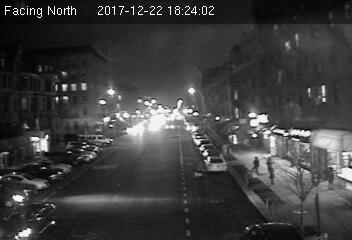car: (205, 154, 226, 173)
pedestrian: (266, 165, 277, 186), (250, 155, 261, 175)
